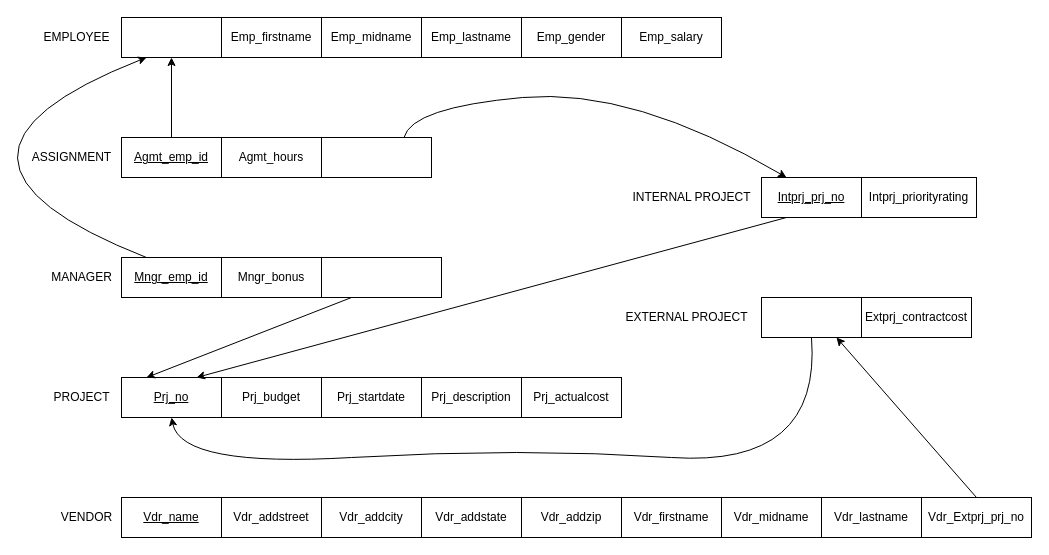
The diagram is 1049 pixels wide and 555 high, and some of its shapes have lost their labels. Each missing label, with the centre of its shape:
"Agmt_intprj_prj_no" goes at point (376, 157).
"Emp_id" goes at point (171, 37).
"Extprj_prj_no" goes at point (811, 317).
"Mngr_prj_no" goes at point (381, 277).
